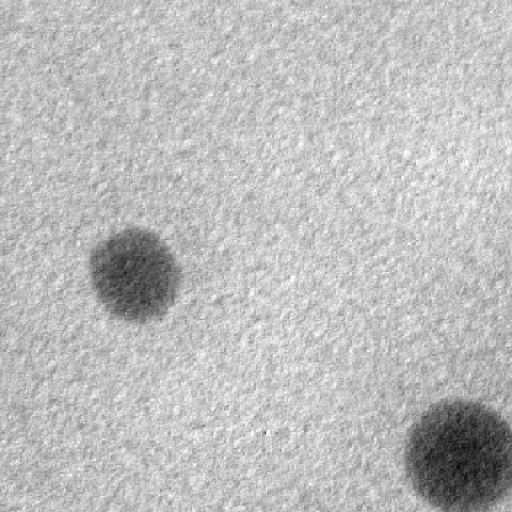Nanoparticles: (405, 396, 512, 512), (91, 224, 183, 327)
